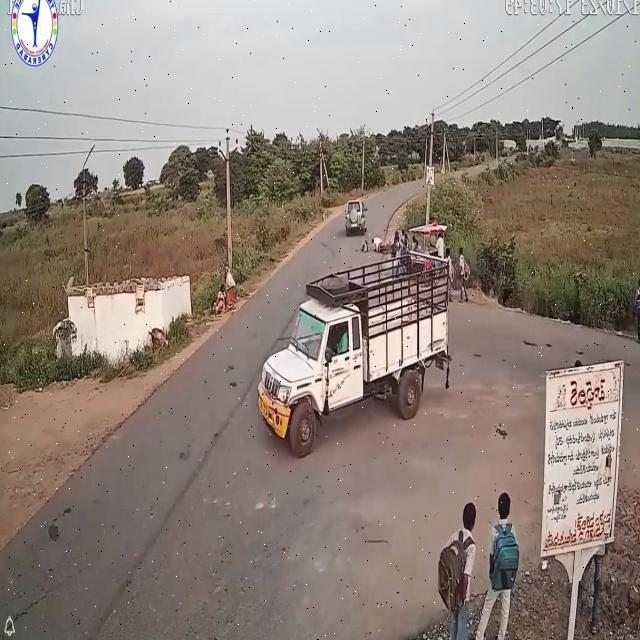accident: (339, 198, 395, 261)
